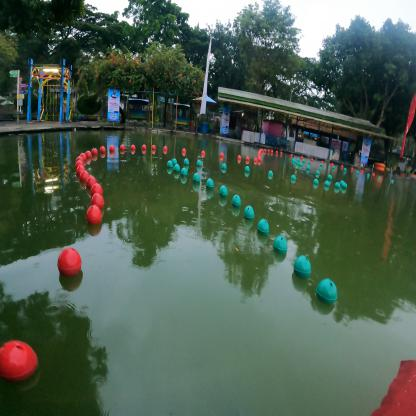green_buoy: (317, 277, 338, 304), (294, 255, 311, 277), (273, 237, 288, 254), (257, 218, 269, 236), (244, 205, 254, 219), (220, 186, 228, 197), (233, 195, 240, 207), (181, 168, 188, 179), (207, 178, 214, 189), (193, 174, 200, 184), (183, 158, 190, 167), (173, 165, 180, 174), (167, 160, 173, 169), (196, 160, 202, 168), (334, 182, 340, 190), (245, 166, 250, 175), (324, 181, 330, 188), (342, 183, 348, 190), (172, 158, 177, 166), (222, 163, 227, 171), (291, 174, 296, 182), (313, 178, 318, 186), (268, 170, 273, 177), (340, 180, 344, 187), (328, 175, 332, 181), (296, 158, 300, 162), (306, 166, 310, 170), (299, 163, 302, 167), (316, 171, 320, 174), (356, 171, 359, 174), (303, 159, 305, 163), (309, 160, 311, 164), (297, 162, 299, 166), (344, 168, 346, 172), (367, 173, 369, 177), (392, 180, 394, 184), (320, 164, 323, 166), (332, 166, 334, 169), (378, 177, 380, 180)
red_buoy: (0, 340, 37, 381), (59, 247, 81, 274), (87, 206, 102, 224), (92, 195, 104, 209), (91, 184, 103, 198), (80, 170, 90, 184), (75, 160, 84, 174), (87, 177, 97, 189), (77, 166, 86, 179), (80, 153, 86, 164), (76, 157, 83, 166), (100, 146, 106, 155), (91, 149, 97, 157), (86, 151, 92, 159), (151, 144, 156, 152), (130, 144, 135, 152), (142, 144, 147, 151), (201, 150, 205, 158), (182, 148, 186, 155), (110, 145, 114, 151), (220, 152, 224, 158), (120, 145, 124, 150), (254, 158, 258, 163), (164, 146, 167, 152), (267, 149, 270, 153), (238, 156, 241, 160), (246, 156, 249, 160), (280, 152, 283, 155), (276, 150, 278, 154), (300, 156, 302, 160), (264, 149, 266, 152), (271, 150, 273, 153), (290, 154, 292, 157), (311, 159, 313, 161), (322, 161, 324, 163)
